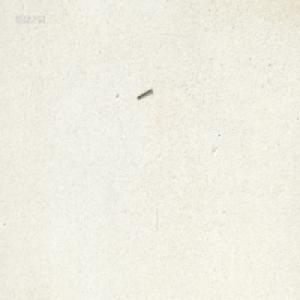Bolt: (135, 86, 152, 99)
